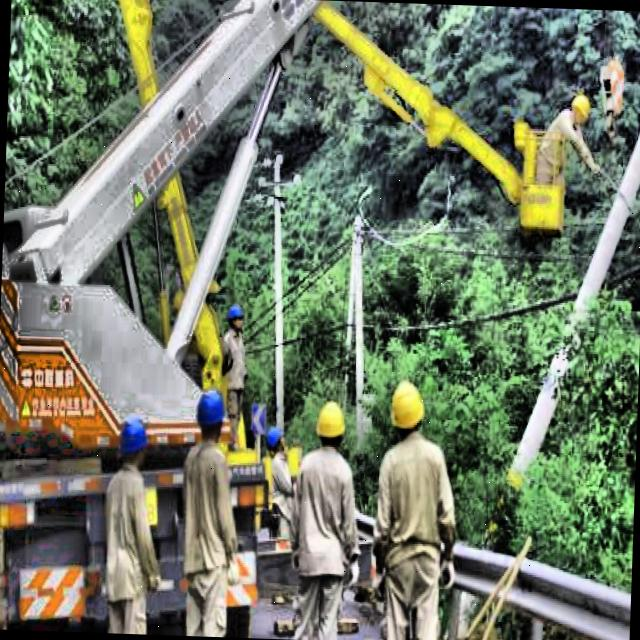helmet: (385, 375, 428, 440), (112, 412, 154, 473), (310, 399, 349, 456), (194, 388, 228, 445), (262, 423, 291, 458), (224, 296, 247, 334), (570, 90, 590, 126)
